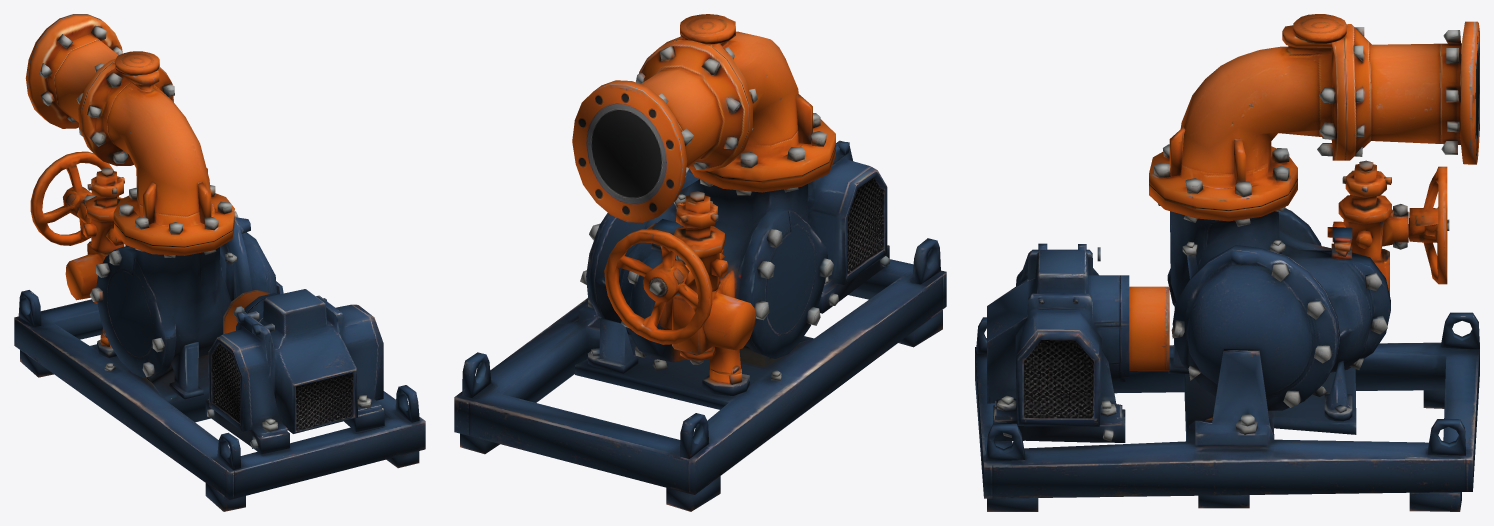
3 renders of one model, left to right at view 1: azimuth 30°, elevation 25°; view 2: azimuth 150°, elevation 25°; view 3: azimuth 270°, elevation 25°, orthographic. The views are drawn at different scales.
Visible parts, largest first — view 1: tripo_node_6b95d2aa-59d8-4c7d-90d0-26034a708f18; view 2: tripo_node_6b95d2aa-59d8-4c7d-90d0-26034a708f18; view 3: tripo_node_6b95d2aa-59d8-4c7d-90d0-26034a708f18.
Part boxes in pixels (bbox=[...]): tripo_node_6b95d2aa-59d8-4c7d-90d0-26034a708f18: bbox=[14, 14, 425, 511]; tripo_node_6b95d2aa-59d8-4c7d-90d0-26034a708f18: bbox=[454, 14, 946, 511]; tripo_node_6b95d2aa-59d8-4c7d-90d0-26034a708f18: bbox=[975, 14, 1479, 511].
Size of the model in its own units: 0.7636 by 1.2 by 1.36.
Materials: 1 (1 with a texture image).
